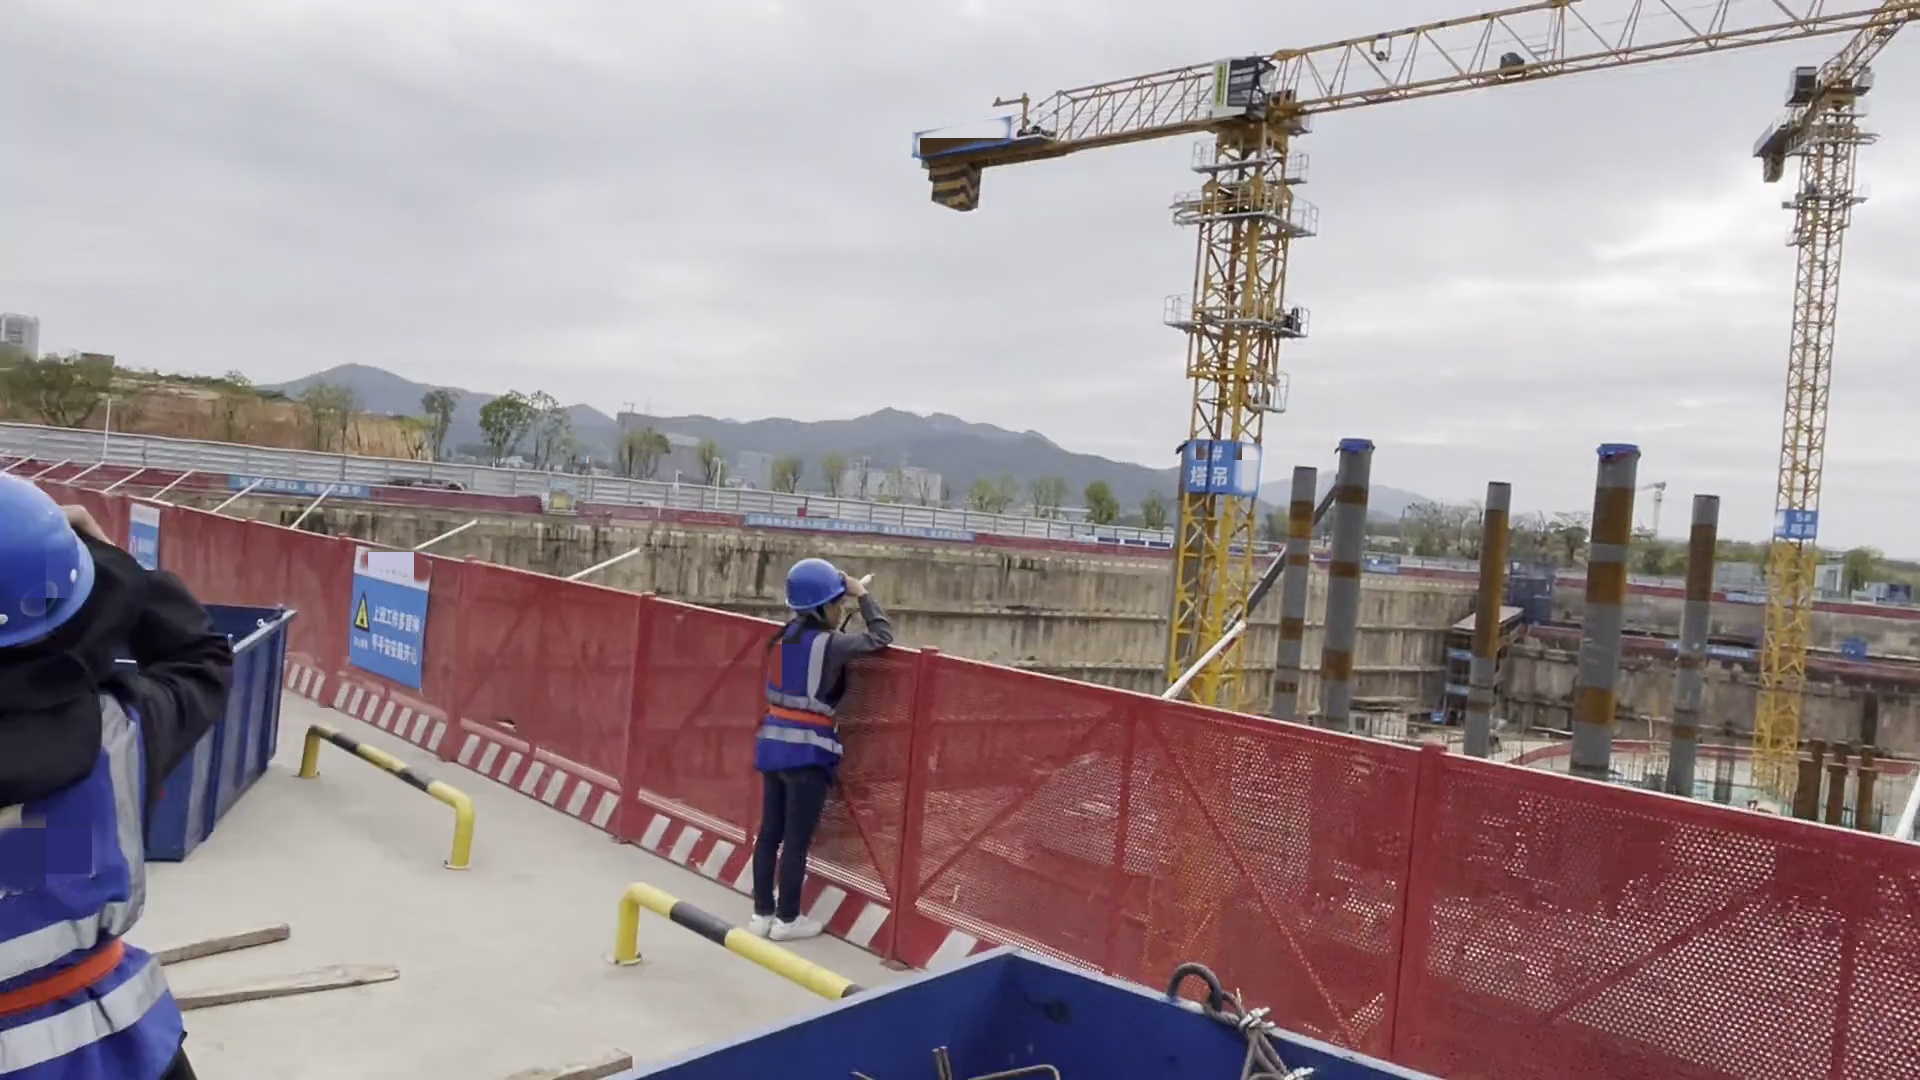fence: (1011, 675, 1920, 1072), (611, 516, 1155, 542)
helmet: (5, 477, 107, 637), (781, 556, 851, 599)
hopper: (569, 942, 1447, 1080), (146, 604, 291, 843)
person: (3, 458, 243, 1080), (755, 560, 885, 937)
slogan: (351, 571, 425, 683), (239, 475, 378, 498), (1183, 439, 1235, 492), (1788, 510, 1817, 538)
vest: (9, 664, 174, 1061), (761, 623, 834, 768)
